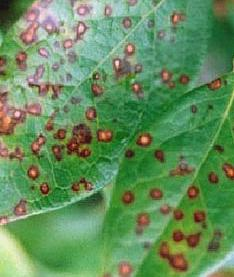Tomato Septoria leaf spot: (0, 0, 216, 233), (89, 44, 234, 277)
